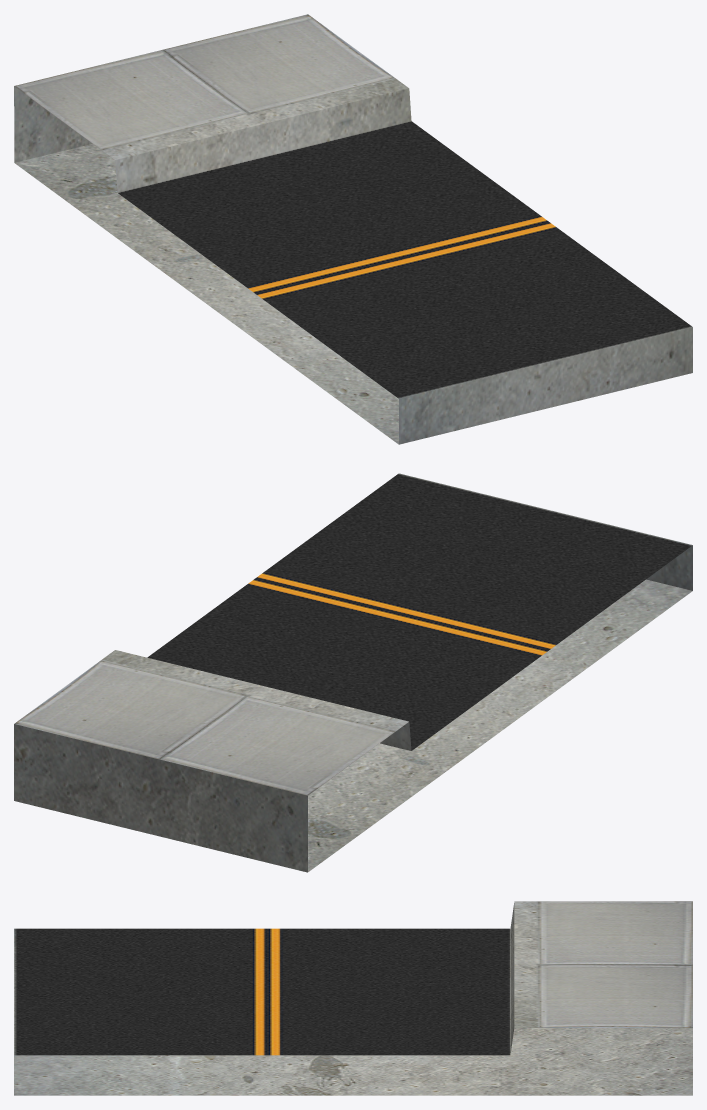
The model's file is street1_flat.fbx.
3 views of the same model, one above another, from view 1: azimuth 30°, elevation 25°; view 2: azimuth 150°, elevation 25°; view 3: azimuth 270°, elevation 25° (orthographic). The views are drawn at different scales.
Parts seen in each view (by area): view 1: pCube1; view 2: pCube1; view 3: pCube1.
Boxes of the visible parts, x1=… form: pCube1: x1=14, y1=14, x2=692, y2=444; pCube1: x1=14, y1=473, x2=692, y2=872; pCube1: x1=14, y1=901, x2=692, y2=1095.
Size of the model in its own units: 3.36 by 0.8395 by 7.61.
